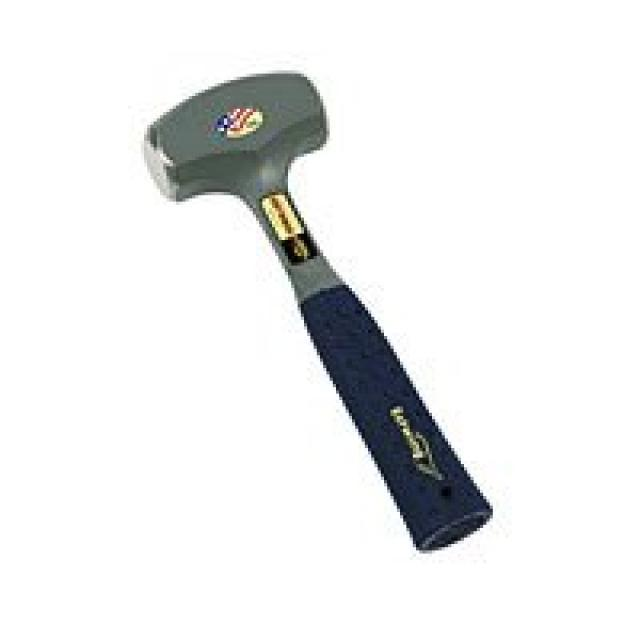hammer: (130, 59, 506, 567)
